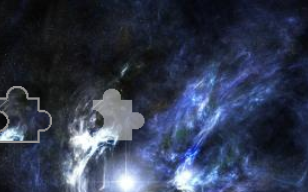target: (86, 86, 152, 145)
